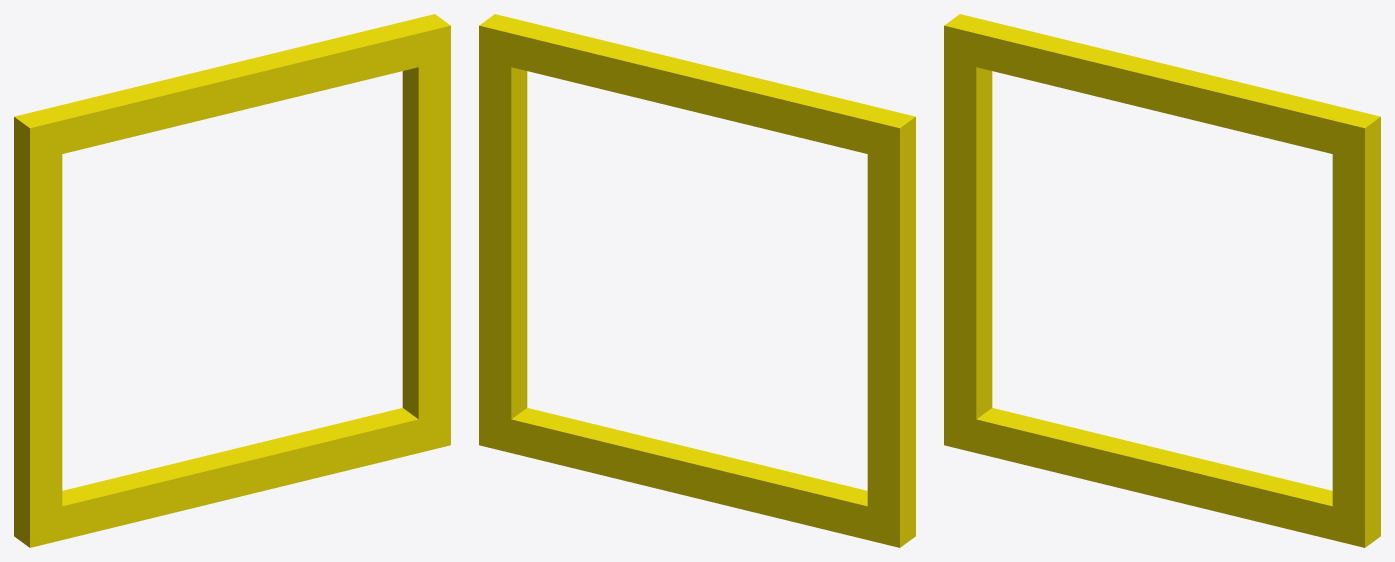
File: marco.fbx
3 renders of one model, left to right at view 1: azimuth 30°, elevation 25°; view 2: azimuth 150°, elevation 25°; view 3: azimuth 330°, elevation 25°, orthographic.
Parts seen in each view (by area): view 1: Marco; view 2: Marco; view 3: Marco.
Part boxes in pixels (x1,y1,x2,y2): Marco: [14, 14, 450, 547]; Marco: [479, 14, 915, 547]; Marco: [944, 14, 1380, 547].
Size of the model in its own units: 174 by 166 by 11.39.
